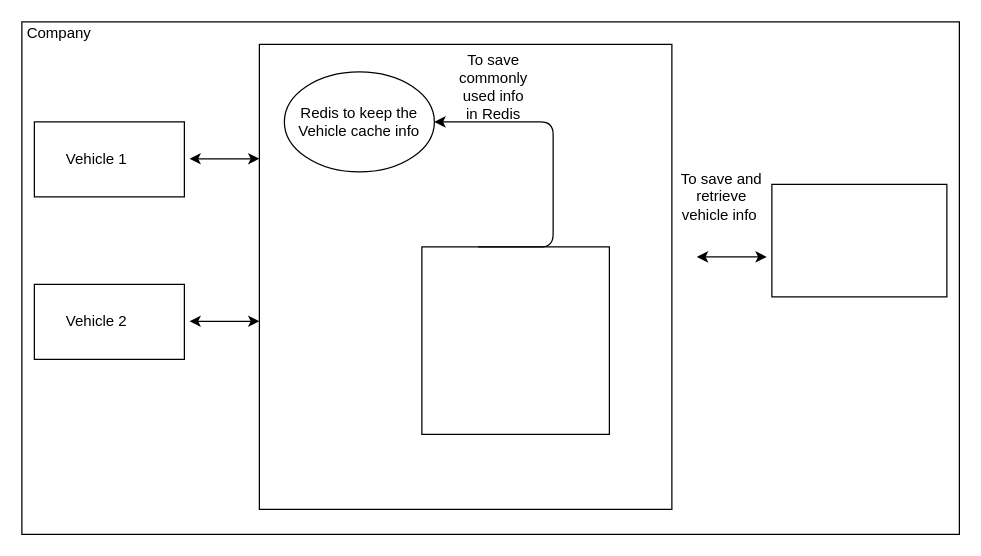
Image size: 981x556. Some labels were removed from this diagram. The centre of each missing label's shape, as x and y in pixels:
"Mongo Db" belongs at point 859,240.
"NodeJS server to communicate between web and DB to save or retrieve vehicle data" belongs at point 515,340.
